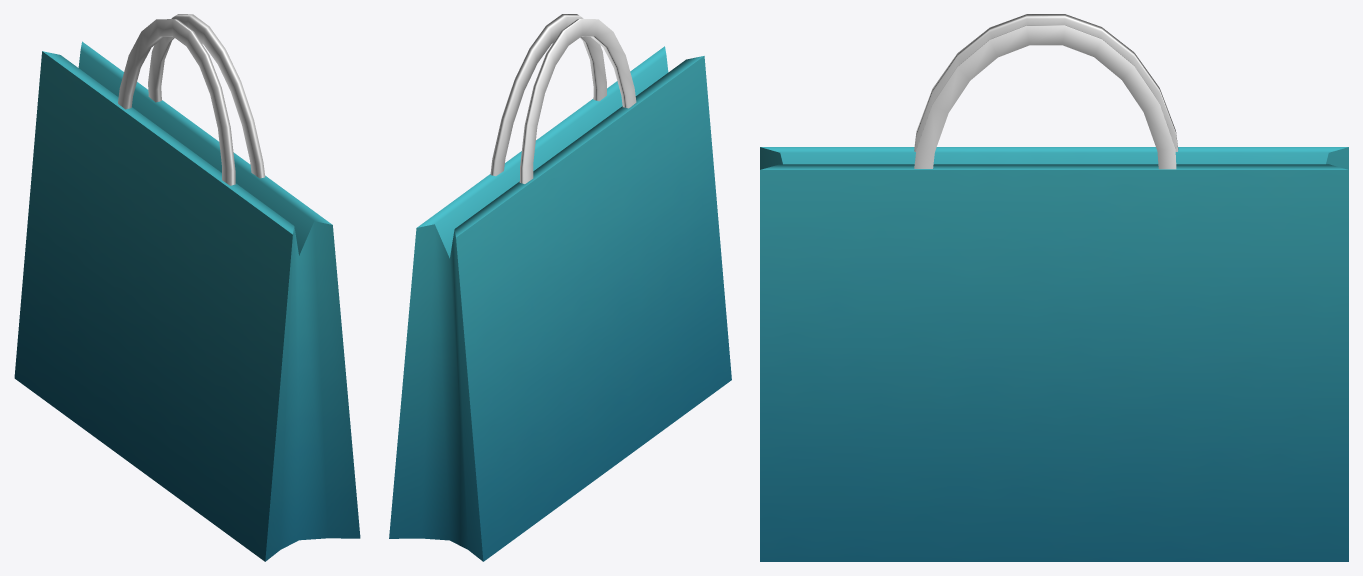
The model's file is PRP_Bag_2.fbx.
The picture shows the model from 3 angles, left to right: view 1: azimuth 30°, elevation 25°; view 2: azimuth 150°, elevation 25°; view 3: azimuth 270°, elevation 25°; orthographic projection. The views are drawn at different scales.
Parts seen in each view (by area): view 1: PRP_Bag_2; view 2: PRP_Bag_2; view 3: PRP_Bag_2.
Boxes of the visible parts, bbox=[...] form: PRP_Bag_2: bbox=[14, 14, 360, 561]; PRP_Bag_2: bbox=[389, 14, 731, 561]; PRP_Bag_2: bbox=[760, 14, 1348, 561].
Bounding box in the file's own units: 15.58 × 68.56 × 71.05.
